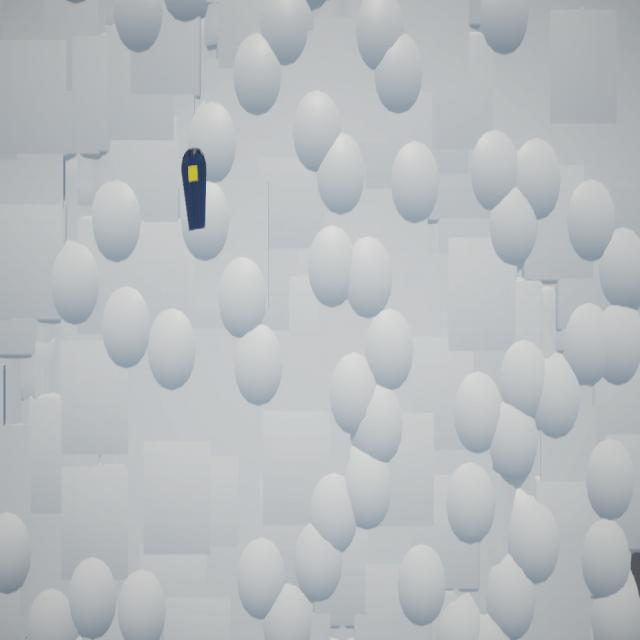handle_folk: (182, 148, 208, 232)
